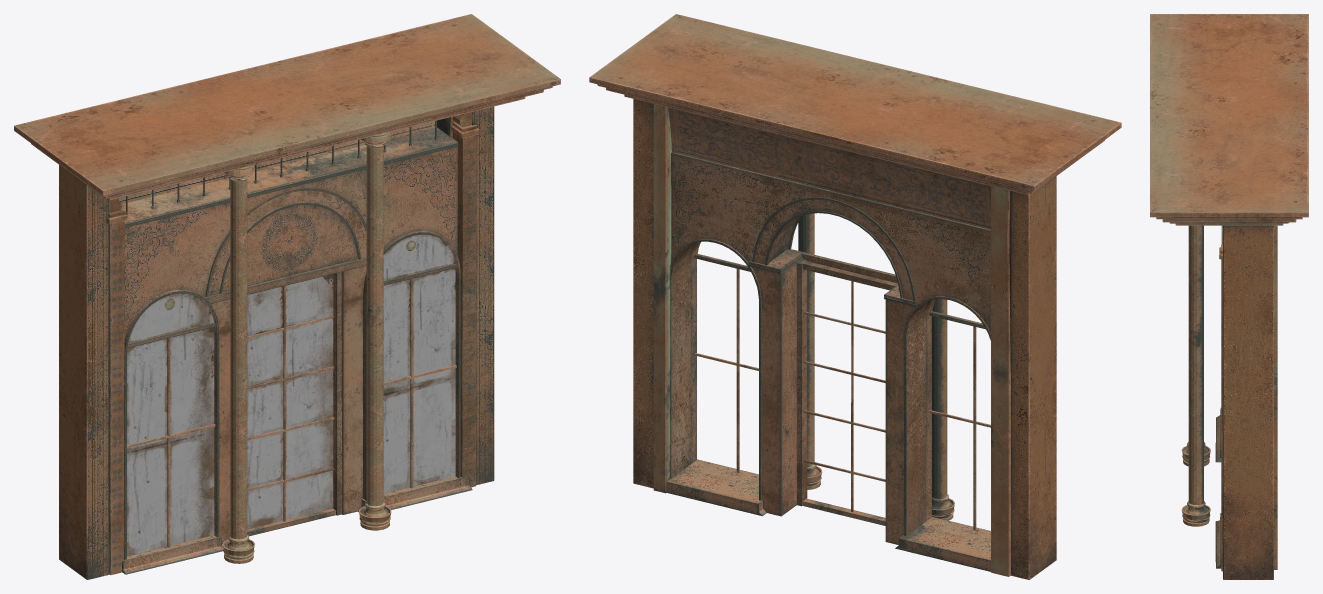
Rendered from janela.glb.
The picture shows the model from 3 angles, left to right: view 1: azimuth 30°, elevation 25°; view 2: azimuth 150°, elevation 25°; view 3: azimuth 270°, elevation 25°; orthographic projection. The views are drawn at different scales.
Size of the model in its own units: 3.38 by 3 by 1.14.
3 materials, 3 textured.
